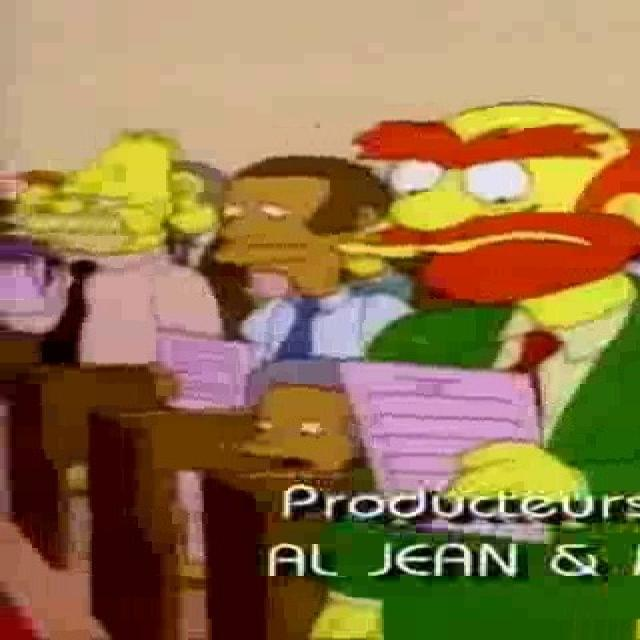Abraham Grampa Simpson: (21, 122, 179, 258)
Groundskeeper Willie: (346, 100, 640, 305)
